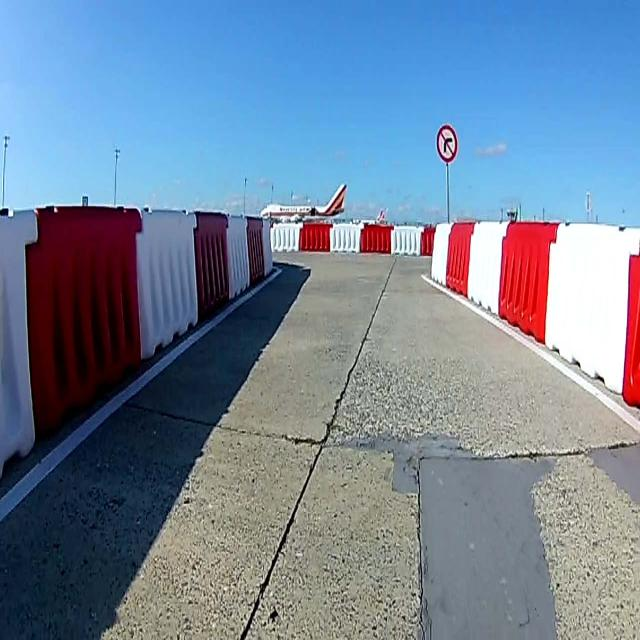sagadonulmez: (437, 125, 457, 162)
